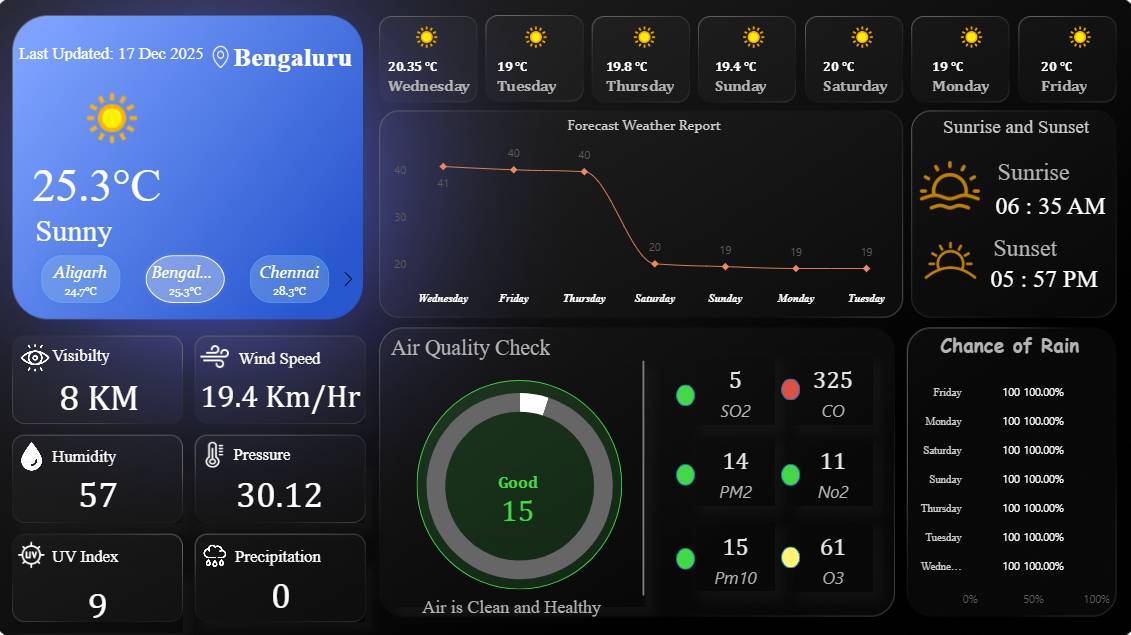

Layout of this report page (visuals, bound fields, positions):
{"tool":"powerbi","page":{"name":"Page 1","canvas":[1280,720],"ordinal":0},"visuals":[{"type":"shape","box":[475.7,427.1,228.6,232.9],"z":0},{"type":"advancedSlicerVisual","fields":{"Values":["location.location.name"]},"box":[21.7,271.7,393.3,85],"z":1000},{"type":"shape","box":[48.6,172.9,255.7,74.3],"z":2000},{"type":"shape","box":[51.4,241.4,178.6,37.1],"z":3000},{"type":"shape","box":[26.7,48.7,218.7,28.7],"z":4000},{"type":"shape","box":[258.8,40,158.8,56.2],"z":5000},{"type":"image","box":[241.2,50,31.2,35],"z":6000},{"type":"cardVisual","fields":{"Data":["Min(current.current.condition.icon)"]},"box":[26.4,67.9,177.9,127.1],"z":7000},{"type":"shape","box":[70,380.6,145,40.6],"z":8000},{"type":"image","box":[228.3,377.5,44.2,44.2],"z":9000},{"type":"shape","box":[272.5,380.8,145,40.8],"z":10000},{"type":"shape","box":[70,490,145,43.1],"z":11000},{"type":"shape","box":[70,601.4,145,40.7],"z":12000},{"type":"shape","box":[271.9,490,145,38.8],"z":13000},{"type":"shape","box":[272.9,601.4,145,40.7],"z":14000},{"type":"image","box":[30.6,381.2,42.5,40],"z":15000},{"type":"image","box":[22.9,600.7,47.1,41.4],"z":16000},{"type":"image","box":[25.6,490,44.4,43.1],"z":17000},{"type":"image","box":[228.1,490,43.8,38.8],"z":18000},{"type":"card","fields":{"Values":["Sum(current.current.humidity)"]},"box":[26.5,518.2,188.8,66.5],"z":19000},{"type":"card","fields":{"Values":["Sum(current.current.pressure_in)"]},"box":[228.3,518.3,188.3,66.7],"z":20000},{"type":"card","fields":{"Values":["_Measures.visibility"]},"box":[30.6,410.6,184.4,66.2],"z":21000},{"type":"card","fields":{"Values":["Sum(current.current.precip_in)"]},"box":[230,630.6,188.1,66.2],"z":22000},{"type":"card","fields":{"Values":["Sum(current.current.uv)"]},"box":[26.7,641.7,188.3,66.7],"z":23000},{"type":"card","fields":{"Values":["_Measures.Wind_speed"]},"box":[228.1,410.6,190,66.2],"z":24000},{"type":"image","box":[230,601.2,41.9,40.6],"z":25000},{"type":"advancedSlicerVisual","fields":{"Values":["forcast_day.Day"]},"box":[425.4,18.5,854.6,100],"z":26000},{"type":"lineChart","title":"Forecast Weather Report","fields":{"Y":["Sum(forcast_day.forecast.forecastday.day.avgtemp_c)"],"Category":["forcast_day.Day"]},"box":[445,133,566,218],"z":27000},{"type":"shape","box":[1026.4,124.3,229.3,40],"z":28000},{"type":"shape","box":[1118,208,152,48],"z":29000},{"type":"shape","box":[1084,290,178,48],"z":30000},{"type":"shape","box":[1072,176,178,36],"z":31000},{"type":"shape","box":[1064,256,176,46],"z":32000},{"type":"image","box":[1028.3,171.7,78.3,76.7],"z":33000},{"type":"image","box":[1023.3,250,90,86.7],"z":34000},{"type":"hundredPercentStackedBarChart","title":"Chance of Rain","fields":{"Y":["Sum(forcast_day.forecast.forecastday.day.daily_chance_of_rain)","Measure.left_value_range"],"Category":["forcast_day.Day_name"]},"box":[1018.3,370.8,231.7,316.7],"z":35000},{"type":"shape","box":[430,371.7,210,38.3],"z":36000},{"type":"card","fields":{"Values":["Sum(current.current.air_quality.co)"]},"box":[893.3,400,88.3,76.7],"z":37000},{"type":"card","fields":{"Values":["Sum(current.current.air_quality.no2)"]},"box":[893.3,490,88.3,76.7],"z":38000},{"type":"card","fields":{"Values":["Sum(current.current.air_quality.o3)"]},"box":[893.3,585,88.3,76.7],"z":39000},{"type":"card","fields":{"Values":["Sum(current.current.air_quality.so2)"]},"box":[785.3,400,88.2,76.5],"z":40000},{"type":"card","fields":{"Values":["Sum(current.current.air_quality.pm2_5)"]},"box":[785.3,490,88.2,76.5],"z":41000},{"type":"card","fields":{"Values":["Sum(current.current.air_quality.pm10)"]},"box":[785.3,585.3,88.2,76.5],"z":42000},{"type":"shape","box":[880,520,21.4,24.3],"z":43000},{"type":"shape","box":[764.1,431.2,21.2,24.1],"z":44000},{"type":"shape","box":[764.1,520.6,21.2,24.1],"z":45000},{"type":"shape","box":[764.1,613.5,21.2,24.1],"z":46000},{"type":"shape","box":[880,611.4,21.4,24.3],"z":47000},{"type":"shape","box":[880,425.7,21.4,24.3],"z":48000},{"type":"shape","box":[690,404.3,74.3,261.4],"z":49000},{"type":"card","fields":{"Values":["Sum(current.current.air_quality.pm10)"]},"box":[535.7,528.6,104.3,62.9],"z":50000},{"type":"donutChart","fields":{"Y":["Sum(current.current.air_quality.pm10)","Measure.left_value_Pm10"]},"box":[450.7,410.7,278.6,268.6],"z":51000},{"type":"shape","box":[435.7,655,291.4,38.6],"z":51001}]}

Visuals, with their boxes in screenshot pixels (x1, y1, x2, y2), scaled from the page's 1280x720 canvas onto the 1131x635 screenshot:
shape: box=[420, 377, 622, 582]
advancedSlicerVisual - location.location.name: box=[19, 240, 367, 315]
shape: box=[43, 152, 269, 218]
shape: box=[45, 213, 203, 246]
shape: box=[24, 43, 217, 68]
shape: box=[229, 35, 369, 85]
image: box=[213, 44, 241, 75]
cardVisual - Min(current.current.condition.icon): box=[23, 60, 181, 172]
shape: box=[62, 336, 190, 371]
image: box=[202, 333, 241, 372]
shape: box=[241, 336, 369, 372]
shape: box=[62, 432, 190, 470]
shape: box=[62, 530, 190, 566]
shape: box=[240, 432, 368, 466]
shape: box=[241, 530, 369, 566]
image: box=[27, 336, 65, 371]
image: box=[20, 530, 62, 566]
image: box=[23, 432, 62, 470]
image: box=[202, 432, 240, 466]
card - Sum(current.current.humidity): box=[23, 457, 190, 516]
card - Sum(current.current.pressure_in): box=[202, 457, 368, 516]
card - _Measures.visibility: box=[27, 362, 190, 421]
card - Sum(current.current.precip_in): box=[203, 556, 369, 615]
card - Sum(current.current.uv): box=[24, 566, 190, 625]
card - _Measures.Wind_speed: box=[202, 362, 369, 421]
image: box=[203, 530, 240, 566]
advancedSlicerVisual - forcast_day.Day: box=[376, 16, 1130, 105]
"Forecast Weather Report" lineChart: box=[393, 117, 893, 310]
shape: box=[907, 110, 1110, 145]
shape: box=[988, 183, 1122, 226]
shape: box=[958, 256, 1115, 298]
shape: box=[947, 155, 1104, 187]
shape: box=[940, 226, 1096, 266]
image: box=[909, 151, 978, 219]
image: box=[904, 220, 984, 297]
"Chance of Rain" hundredPercentStackedBarChart: box=[900, 327, 1104, 606]
shape: box=[380, 328, 566, 362]
card - Sum(current.current.air_quality.co): box=[789, 353, 867, 420]
card - Sum(current.current.air_quality.no2): box=[789, 432, 867, 500]
card - Sum(current.current.air_quality.o3): box=[789, 516, 867, 584]
card - Sum(current.current.air_quality.so2): box=[694, 353, 772, 420]
card - Sum(current.current.air_quality.pm2_5): box=[694, 432, 772, 500]
card - Sum(current.current.air_quality.pm10): box=[694, 516, 772, 584]
shape: box=[778, 459, 796, 480]
shape: box=[675, 380, 694, 402]
shape: box=[675, 459, 694, 480]
shape: box=[675, 541, 694, 562]
shape: box=[778, 539, 796, 561]
shape: box=[778, 375, 796, 397]
shape: box=[610, 357, 675, 587]
card - Sum(current.current.air_quality.pm10): box=[473, 466, 566, 522]
donutChart - Sum(current.current.air_quality.pm10) x Measure.left_value_Pm10: box=[398, 362, 644, 599]
shape: box=[385, 578, 642, 612]
